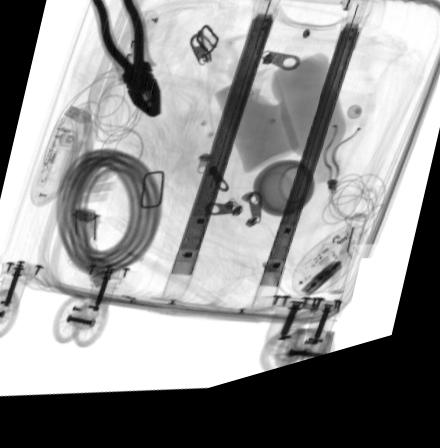Pliers: (90, 0, 160, 124)
